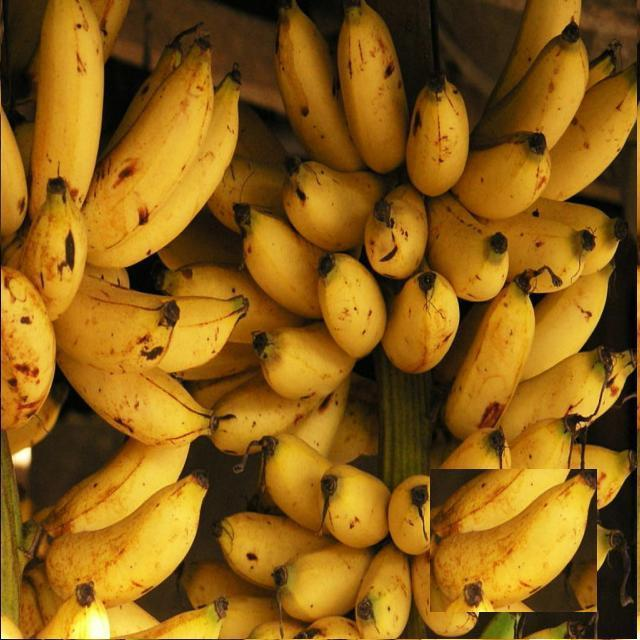Banana: (1, 0, 638, 639), (430, 469, 597, 612)
